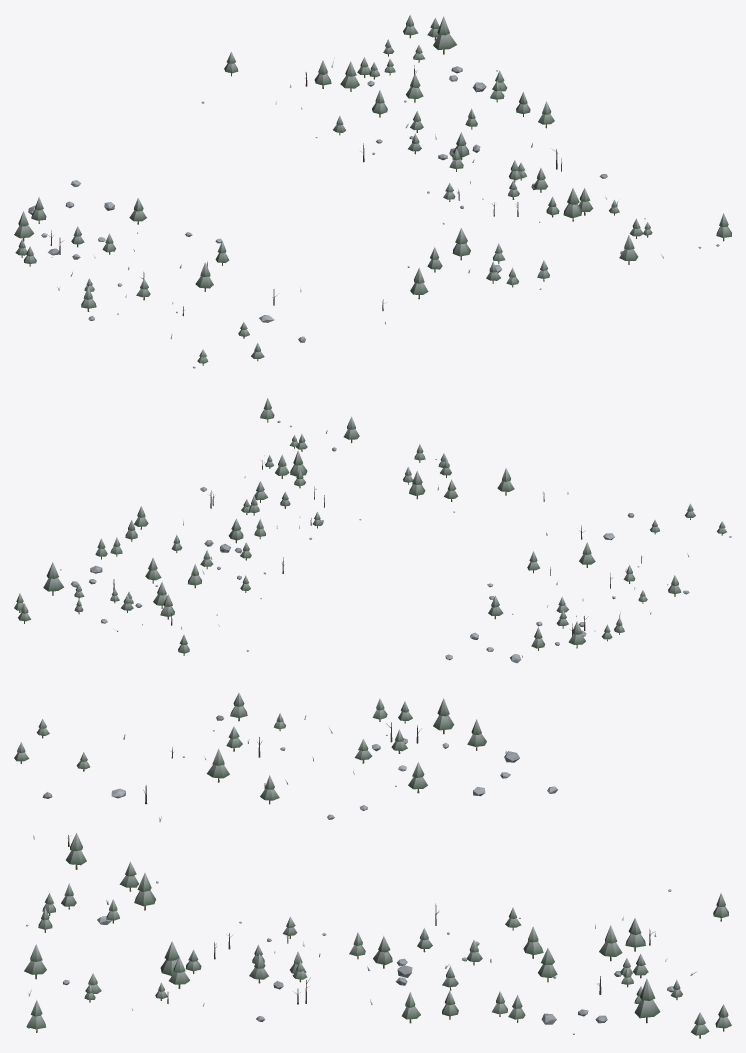
The model's file is frost_land_scatter_c14_09_lod1.glb.
The picture shows the model from 3 angles, top to bottom: view 1: azimuth 30°, elevation 25°; view 2: azimuth 150°, elevation 25°; view 3: azimuth 270°, elevation 25°; orthographic projection. The views are drawn at different scales.
Parts seen in each view (by area): view 1: frost_land_scatter_c14_09_lod1; view 2: frost_land_scatter_c14_09_lod1; view 3: frost_land_scatter_c14_09_lod1.
Boxes of the visible parts, x1,y1,x2,y2 form: frost_land_scatter_c14_09_lod1: (14,15,731,368); frost_land_scatter_c14_09_lod1: (14,398,731,663); frost_land_scatter_c14_09_lod1: (14,693,731,1038).
Bounding box in the file's own units: 259 × 20.14 × 244.
